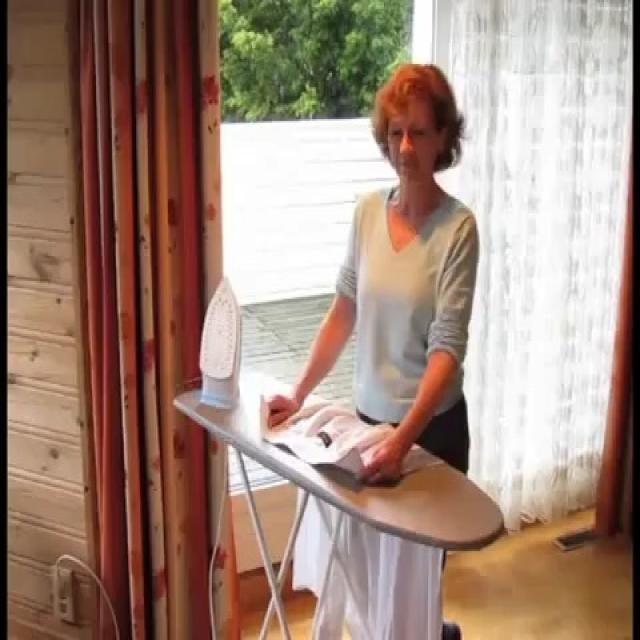Shirt: (257, 391, 445, 640)
